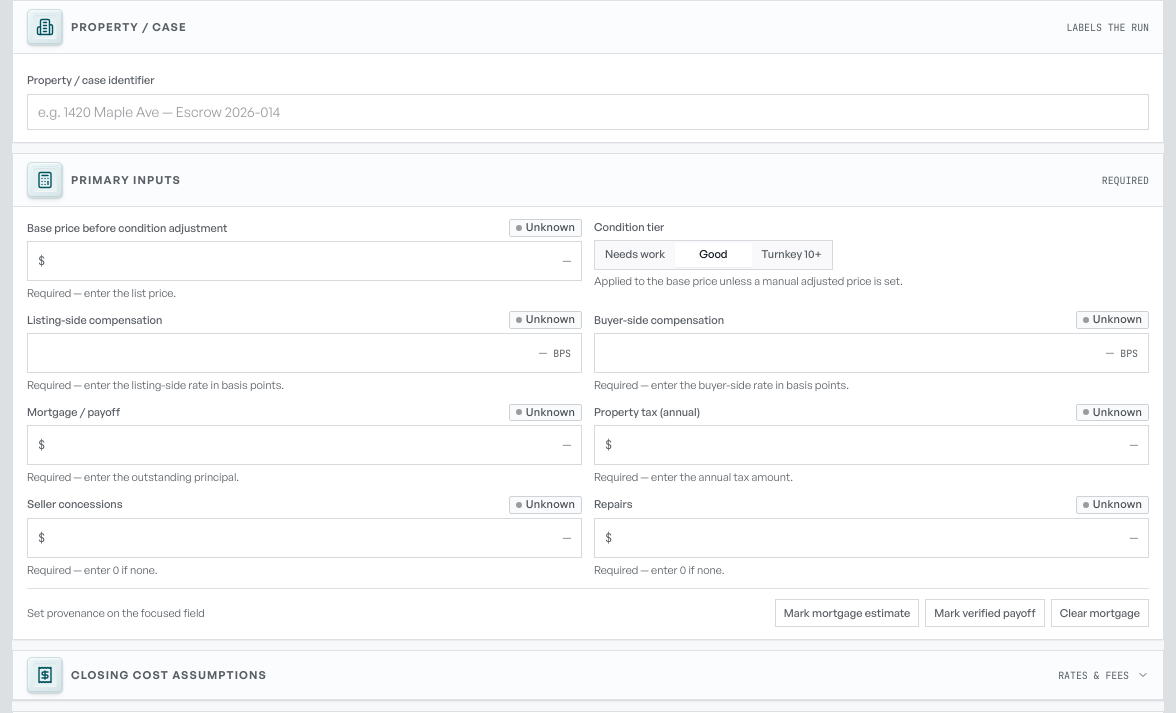
Test: inputs-panel provenance controls › clears the mortgage balance back to empty
Type "300000" into the field with test id "inputs.mortgage_balance". click: (311, 445)
box: [51,426,571,464]
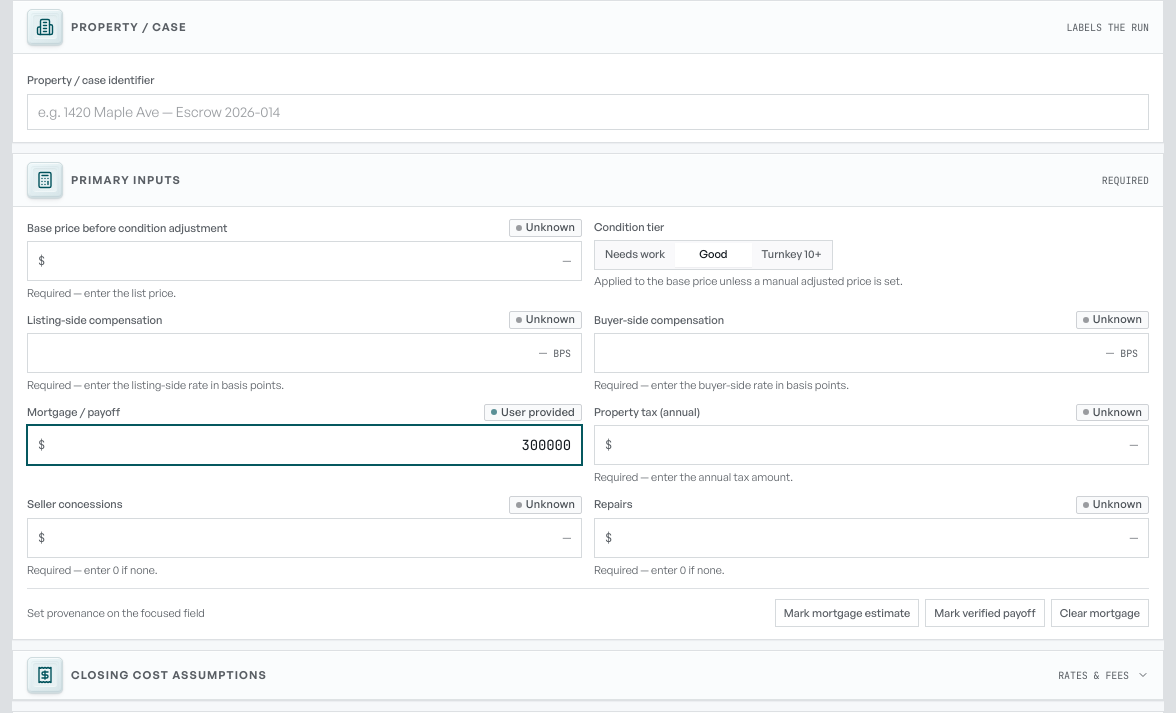
Click the button with test id "inputs.clear_mortgage_button". click: (1100, 613)
box: [1051,599,1149,627]
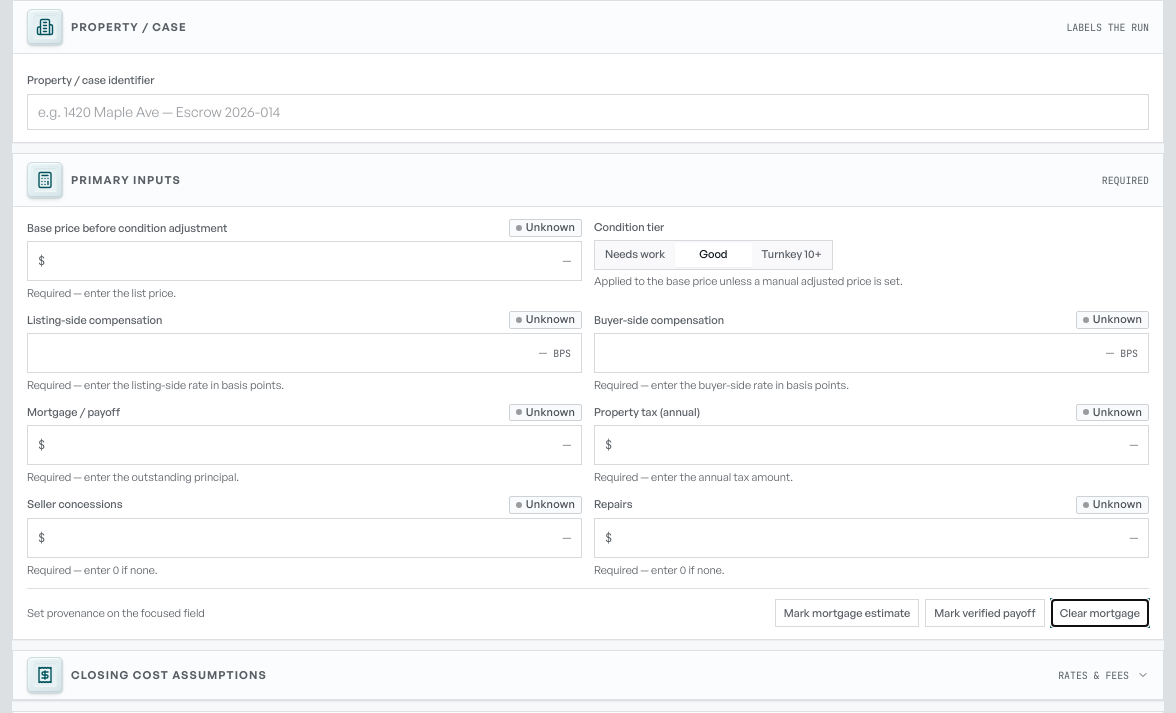
Now the field with test id "inputs.mortgage_balance" is empty, box [51,426,571,464]
